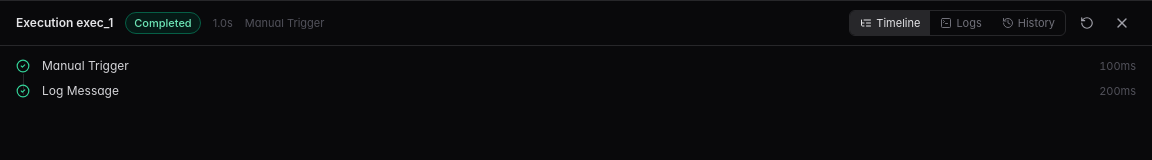
Test case: ExecutionPanel › switches to the logs view
Step 1. Click the button "Logs" → point(961, 23), box [930, 11, 992, 35]
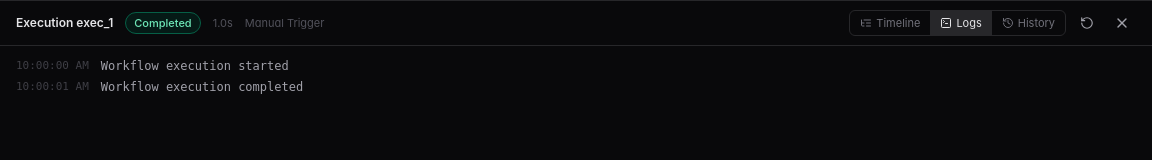
expect the text "Workflow execution started" is shown: met, box [101, 58, 289, 74]
expect the text "Workflow execution completed" is shown: met, box [101, 78, 303, 94]
